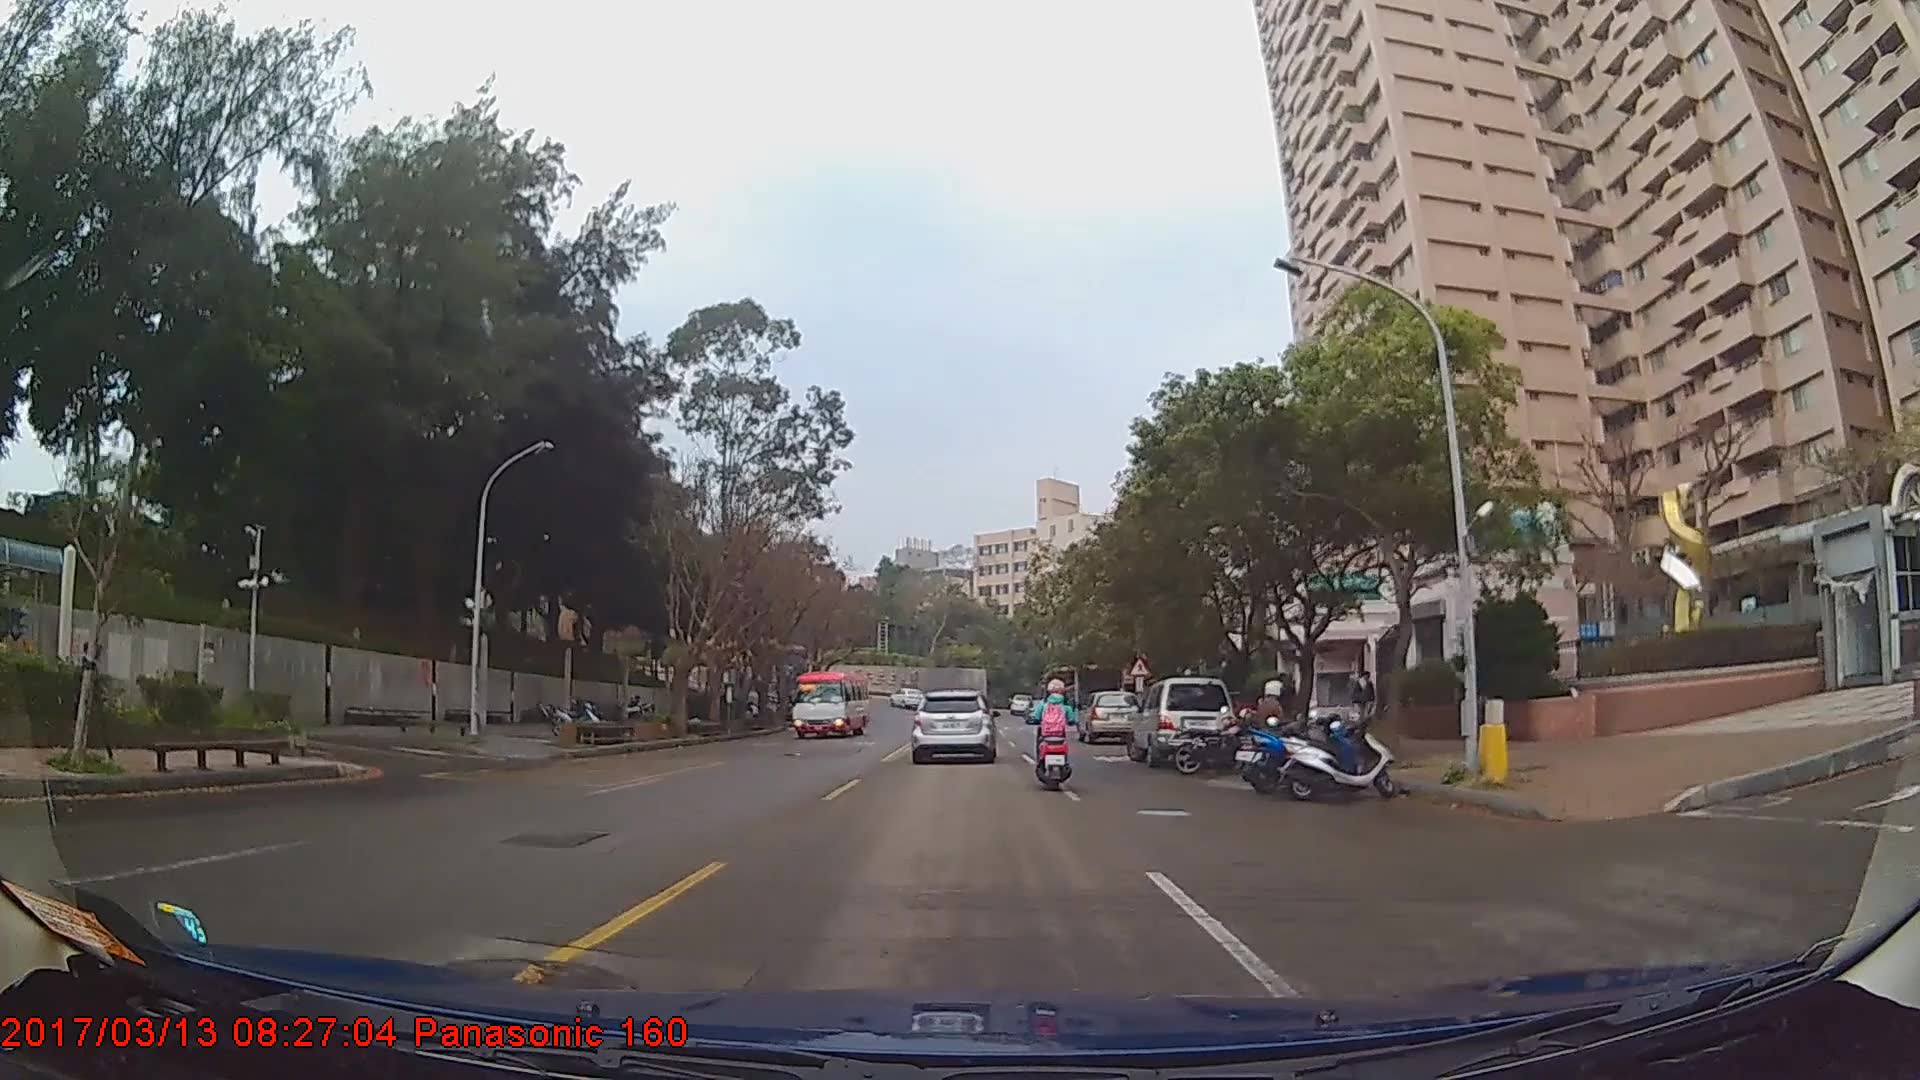rider: (1034, 671, 1084, 793), (1242, 674, 1301, 776)
vehicle: (1126, 674, 1234, 768), (909, 686, 995, 762), (789, 666, 869, 734), (1078, 688, 1140, 742), (885, 683, 927, 706)
